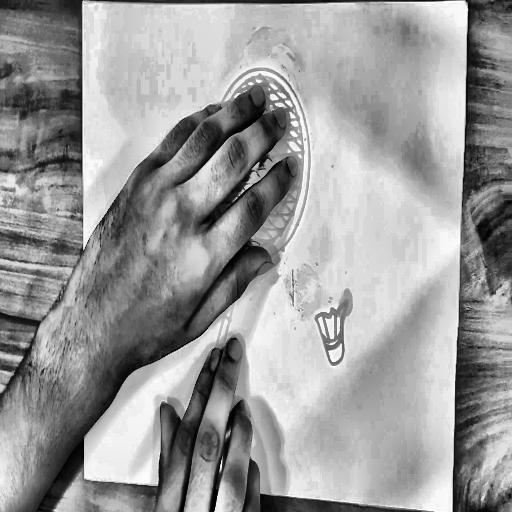badminton: (163, 59, 360, 492)
bottom_left: (81, 470, 89, 483)
top_left: (79, 0, 86, 9)
top_right: (464, 0, 471, 11)
